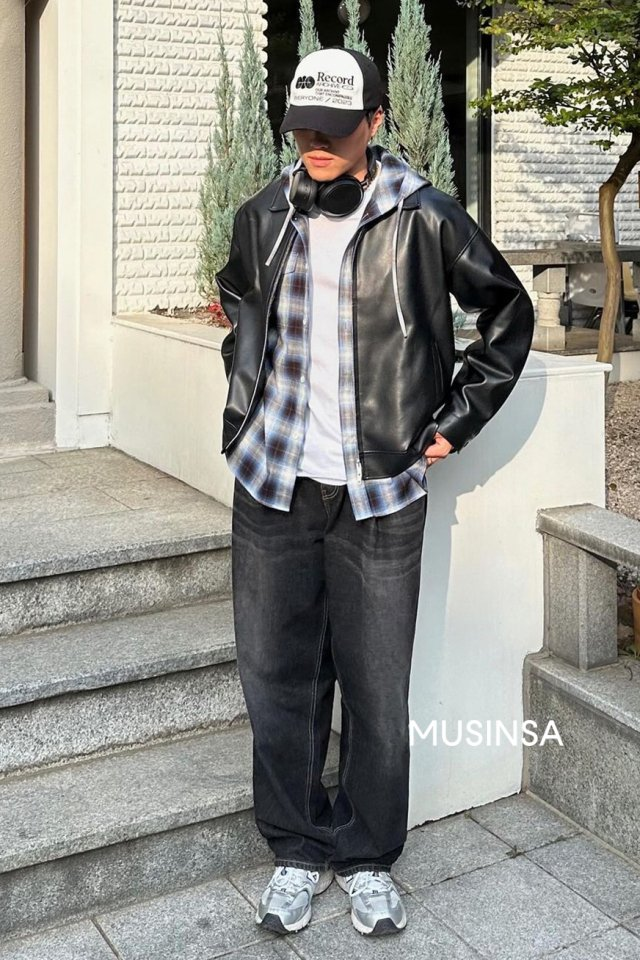Cap: (279, 42, 384, 131)
Headphone: (291, 169, 366, 219)
Jacket: (218, 165, 543, 465)
Jeans: (231, 463, 431, 873)
Shoes: (251, 856, 414, 943)
